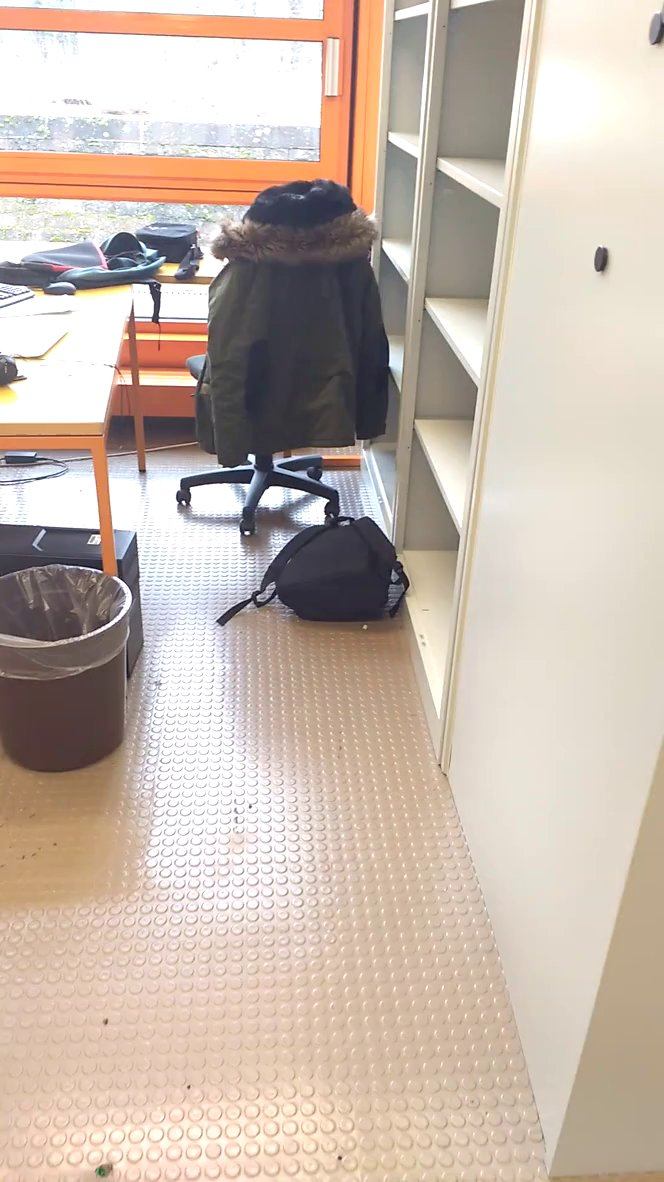bag: (214, 503, 423, 645)
bin: (1, 541, 140, 791)
